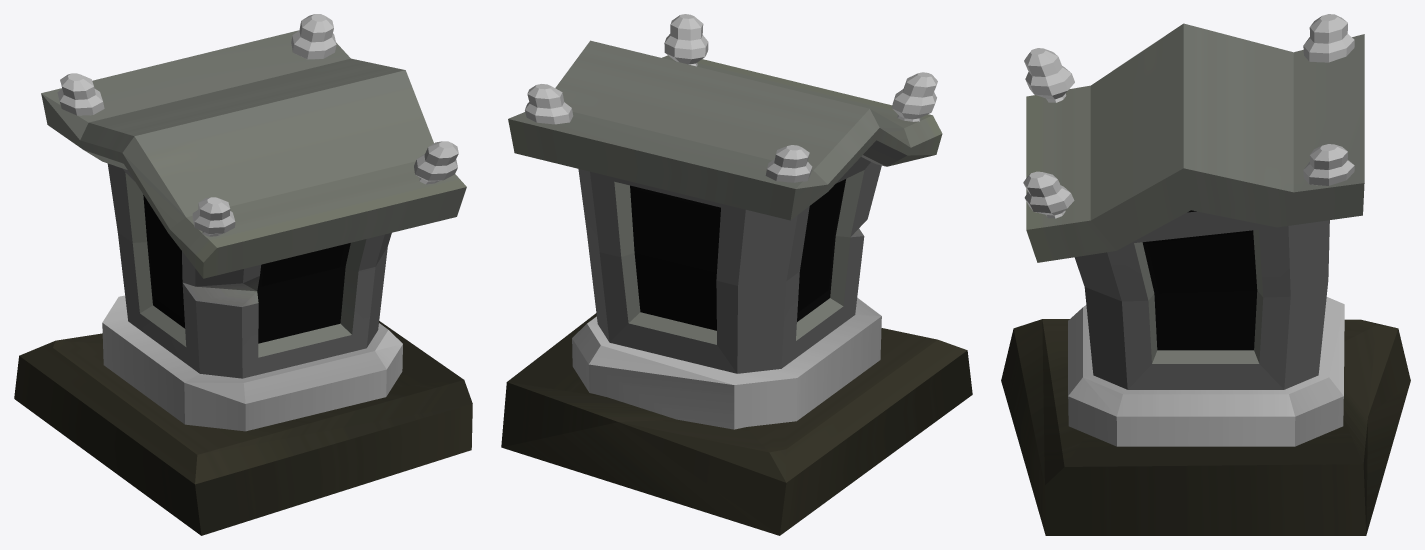
The model's file is ea_bld_monument_2a_pre_1_lev1.glb.
3 views of the same model, side by side, from view 1: azimuth 30°, elevation 25°; view 2: azimuth 150°, elevation 25°; view 3: azimuth 270°, elevation 25° (orthographic). The views are drawn at different scales.
Parts seen in each view (by area): view 1: ea_bld_monument_2a_pre_1_lev1; view 2: ea_bld_monument_2a_pre_1_lev1; view 3: ea_bld_monument_2a_pre_1_lev1.
Part boxes in pixels (<box>): ea_bld_monument_2a_pre_1_lev1: <box>14,14,472,535</box>; ea_bld_monument_2a_pre_1_lev1: <box>501,14,972,535</box>; ea_bld_monument_2a_pre_1_lev1: <box>1001,14,1410,535</box>.
Bounding box in the file's own units: 1.97 × 2.22 × 2.19.
1 material, 1 textured.
